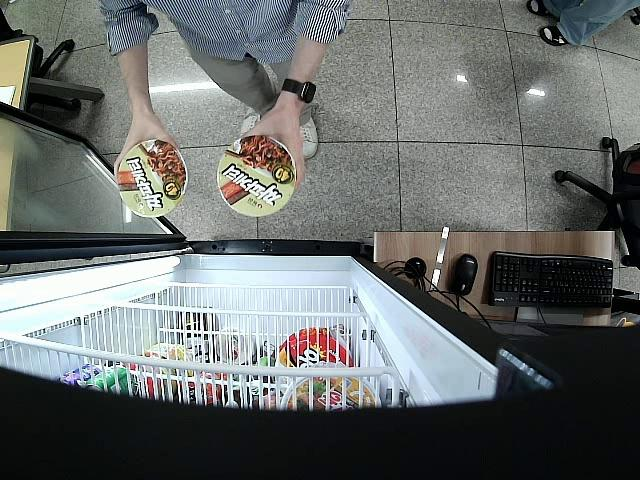00_hand: (245, 111, 308, 196), (113, 122, 180, 180)
03_chapagetti_L: (218, 134, 294, 217), (112, 140, 185, 219)
